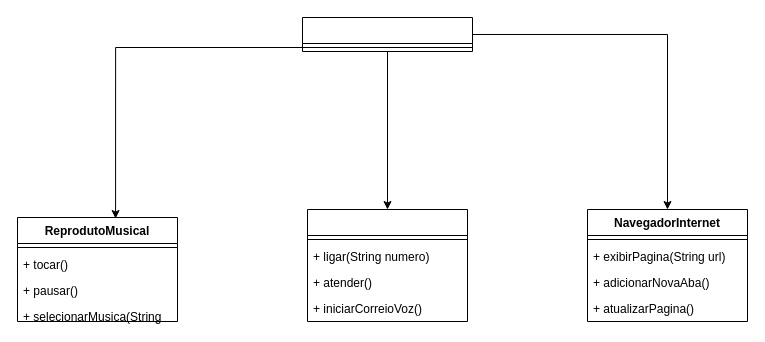
Image size: 765x342. Some labels were removed from this diagram. The shapes that lost their labels are listed below. From the top down, each one's box as (x1, y1, x2, y2) in pixels, then its label:
(302, 16, 472, 52): iPhone
(306, 208, 468, 322): AparelhoTelefônico
